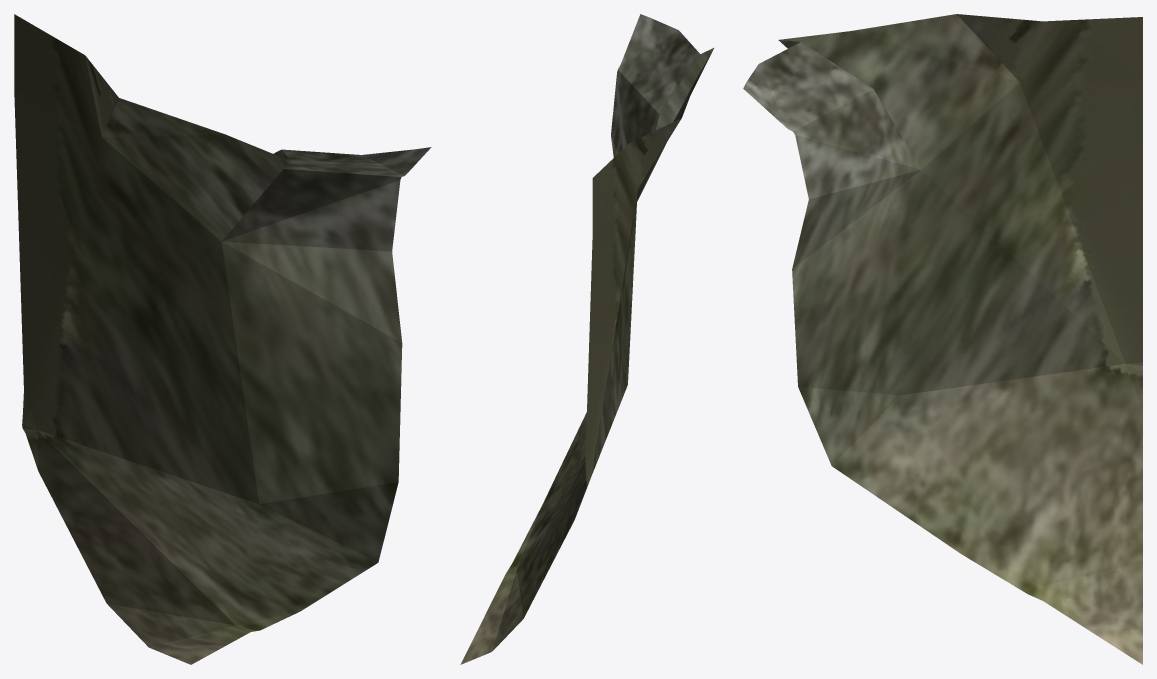
3 views of the same model, side by side, from view 1: azimuth 30°, elevation 25°; view 2: azimuth 150°, elevation 25°; view 3: azimuth 270°, elevation 25° (orthographic). The views are drawn at different scales.
Size of the model in its own units: 0.7507 by 2.7 by 1.7.
Materials: 2 (2 with a texture image).
